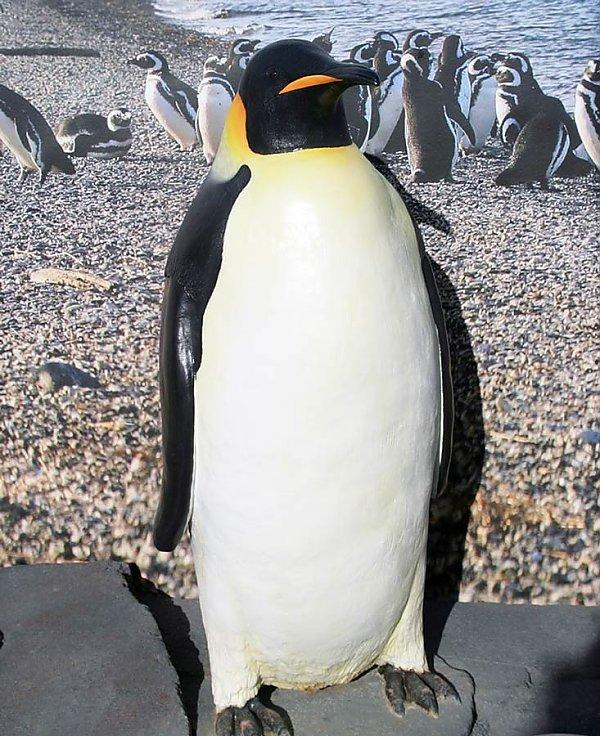emporer: (142, 17, 488, 736)
